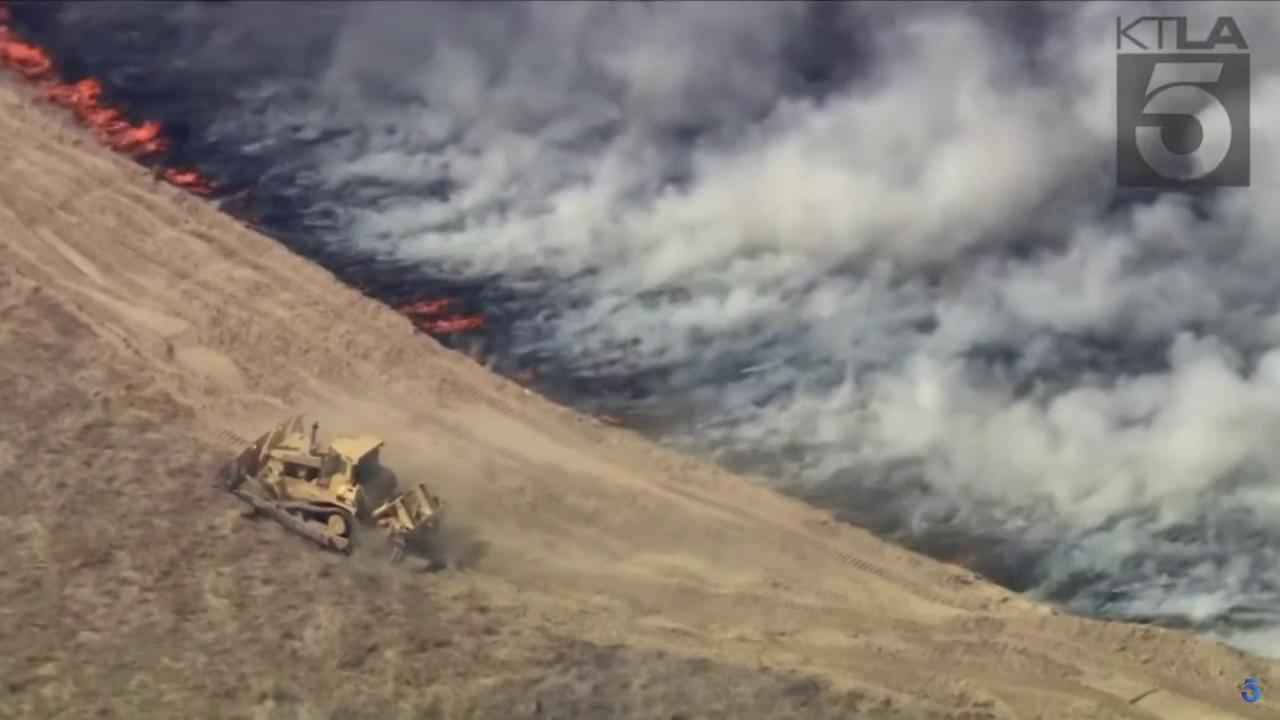fire: (0, 0, 223, 200), (392, 293, 486, 336)
smoke: (0, 0, 1280, 661)
